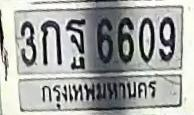0: (138, 17, 154, 62)
3: (19, 20, 36, 66)
6: (96, 17, 112, 62), (117, 17, 133, 62)
9: (159, 16, 176, 62)
A01: (40, 20, 61, 64)
A16: (65, 17, 86, 62)
BKK: (35, 79, 161, 110)
